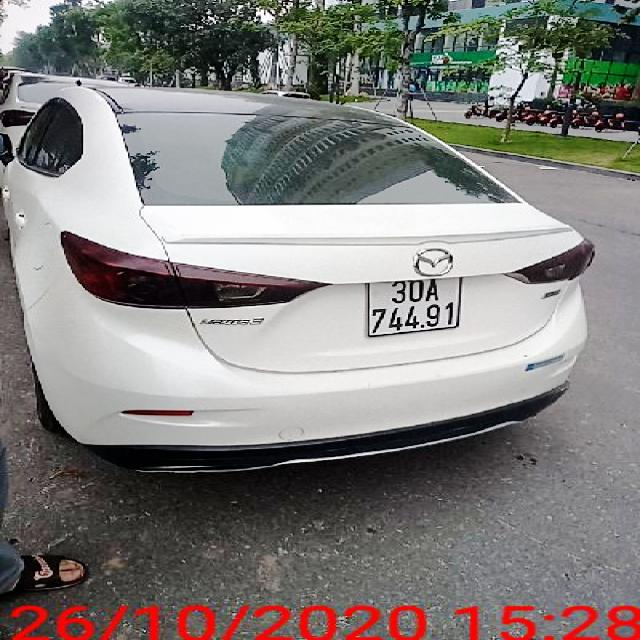license_plate: (370, 277, 463, 338)
